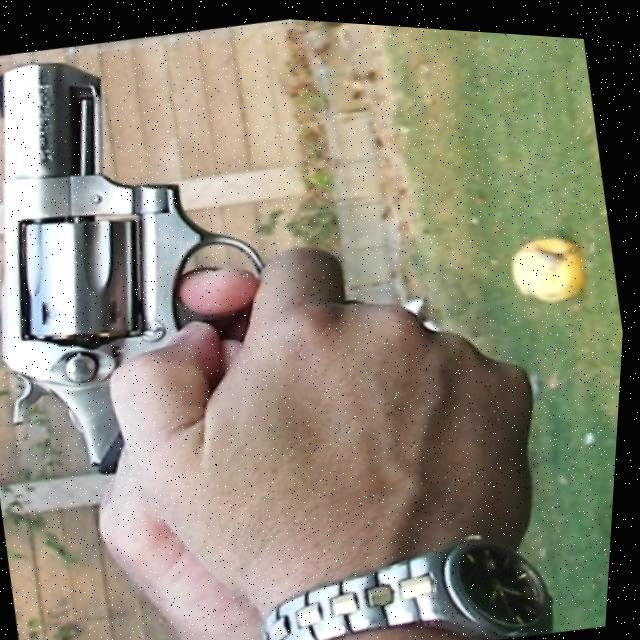pistol: (0, 21, 311, 503)
